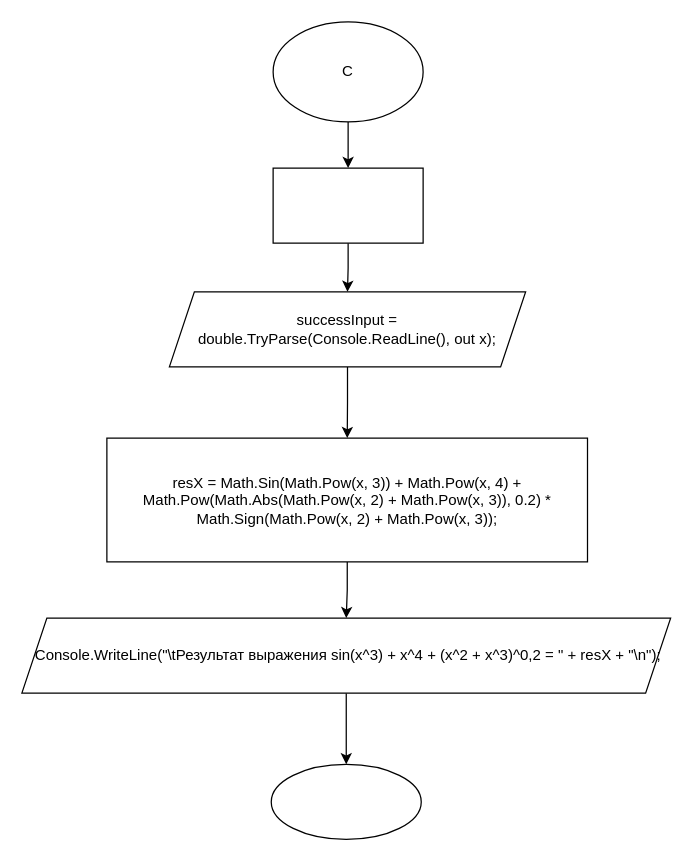
The diagram is 693 pixels wide and 861 high, and some of its shapes have lost their labels. The box of each missing label's shape, as (x1, y1, x2, y2) in pixels:
double x, resX;: (272, 167, 423, 243)
return;: (270, 763, 421, 839)
